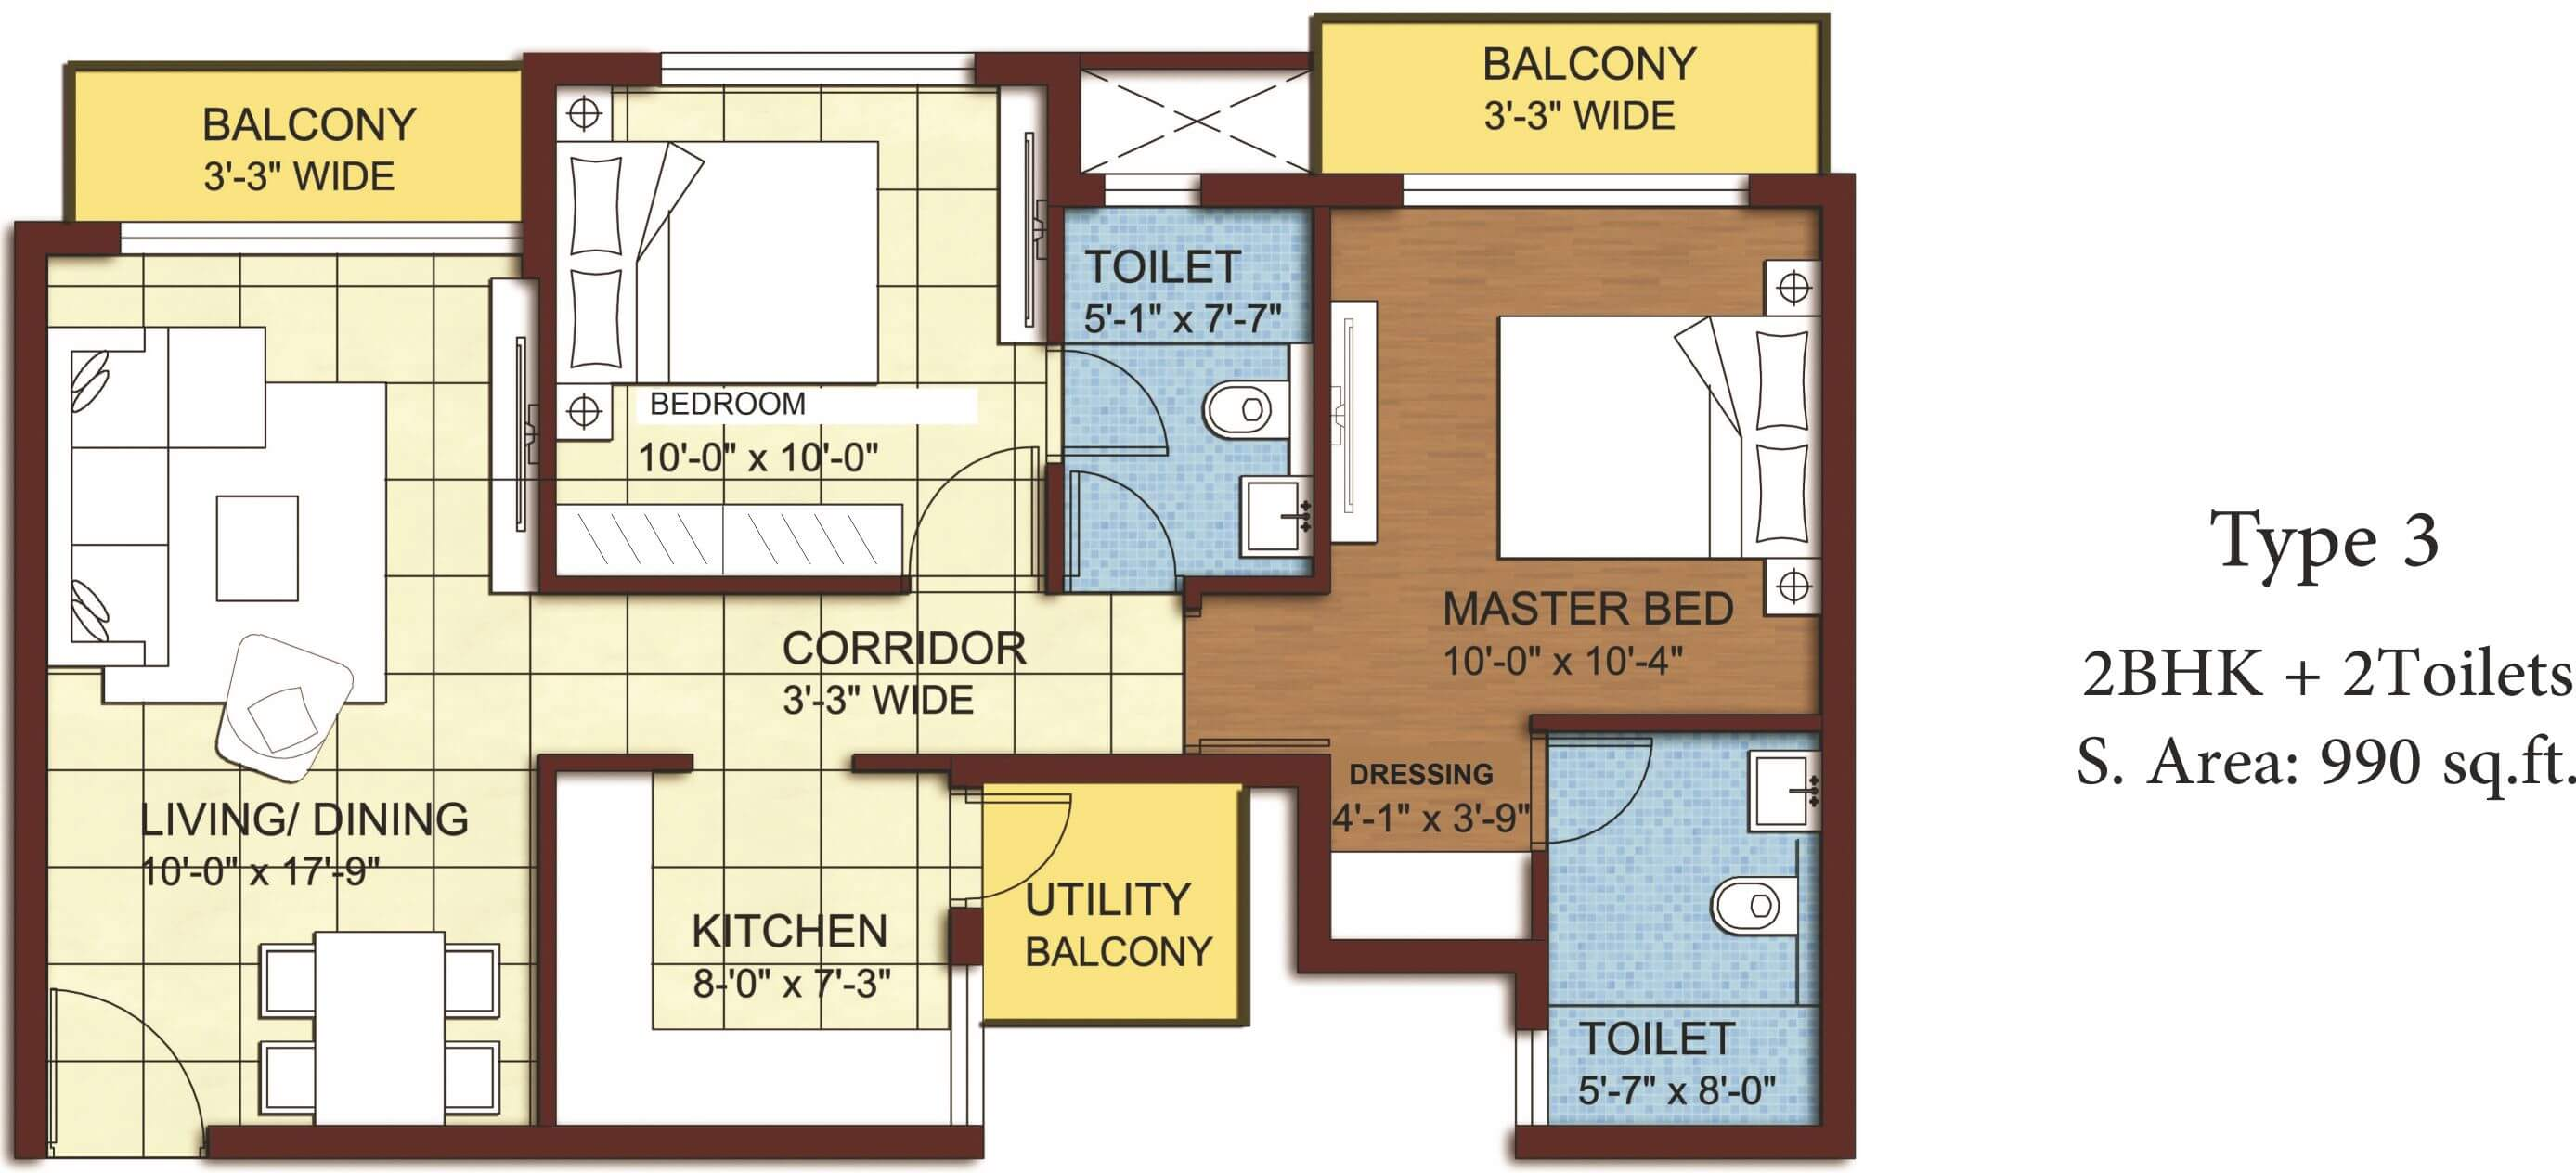door: (51, 984, 204, 1137), (907, 435, 1042, 557), (1066, 465, 1181, 570), (1554, 734, 1658, 849), (1073, 352, 1176, 462), (987, 790, 1079, 892)
